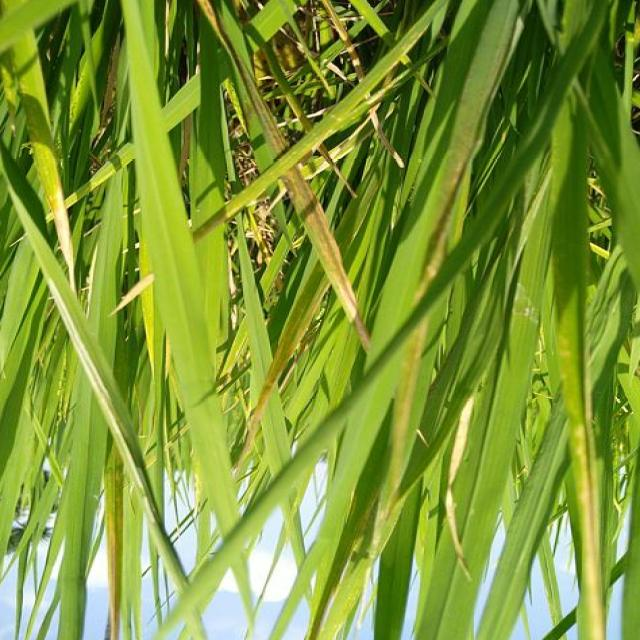Leaf Blight: (8, 183, 190, 589), (35, 142, 76, 292), (104, 459, 127, 640), (318, 0, 363, 81), (369, 102, 404, 168), (317, 142, 356, 197), (328, 117, 374, 161), (297, 154, 327, 179)
Leaf Streak: (231, 259, 331, 476), (344, 314, 431, 563), (279, 165, 370, 351), (559, 296, 603, 640), (195, 0, 290, 156), (419, 106, 489, 288)
